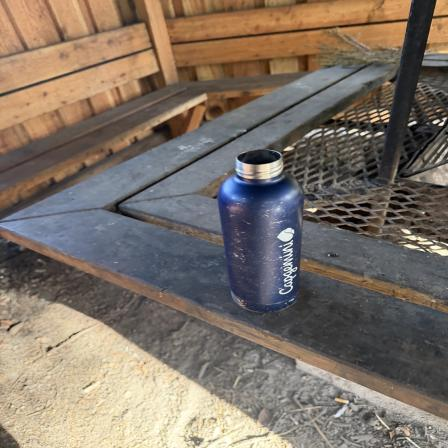blue_bottle: (218, 149, 306, 313)
